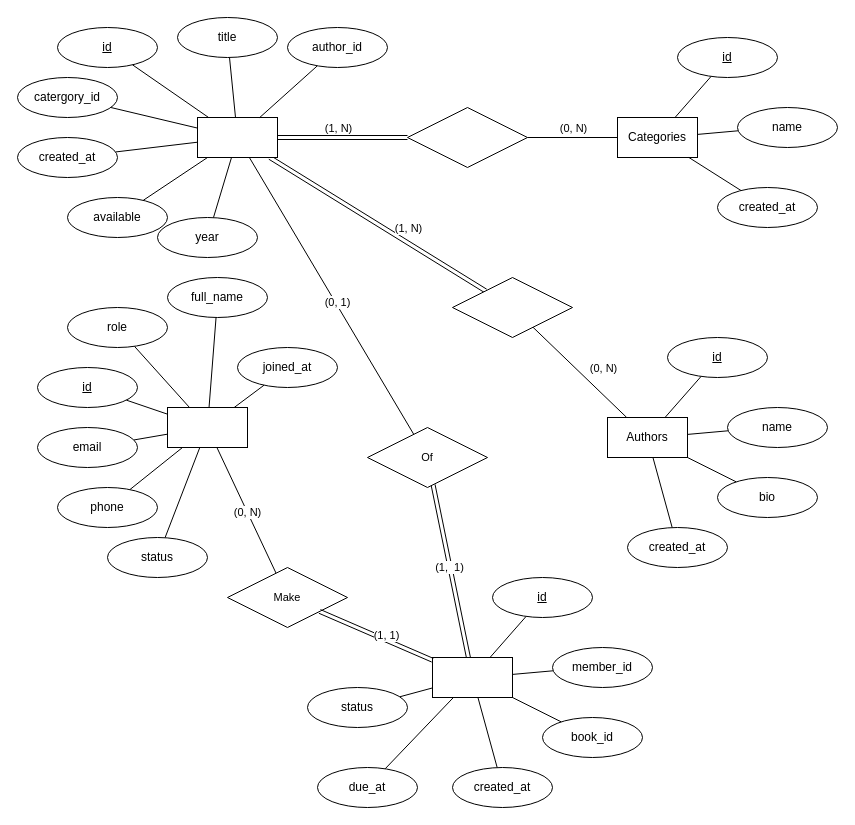
Image size: 855x825. Some labels were removed from this diagram. The centre of each missing label's shape, as x and y in pixels:
Books: point (237, 137)
Has: point (512, 307)
In: point (467, 137)
Members: point (207, 427)
Transactions: point (472, 677)
